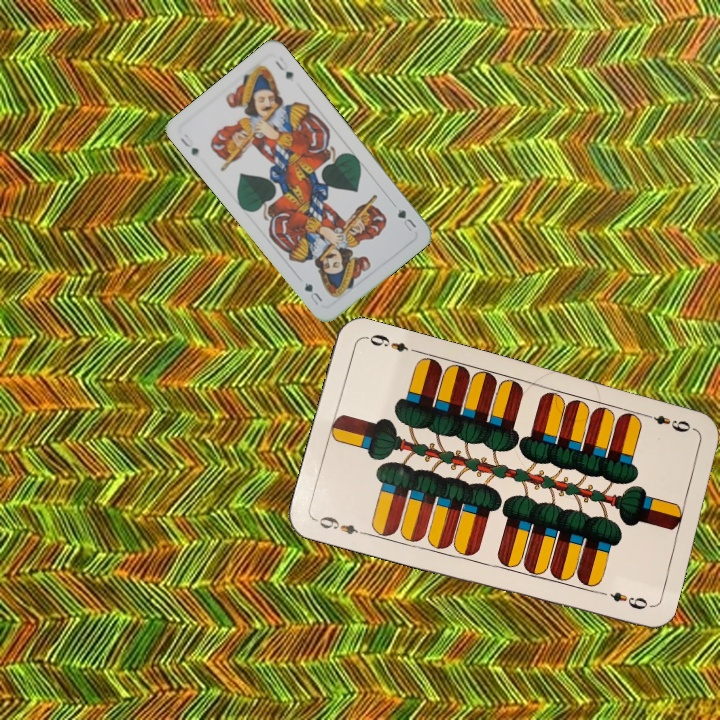E9: (311, 512, 370, 538), (641, 409, 693, 435)
GU: (393, 204, 419, 236), (176, 133, 201, 158)
